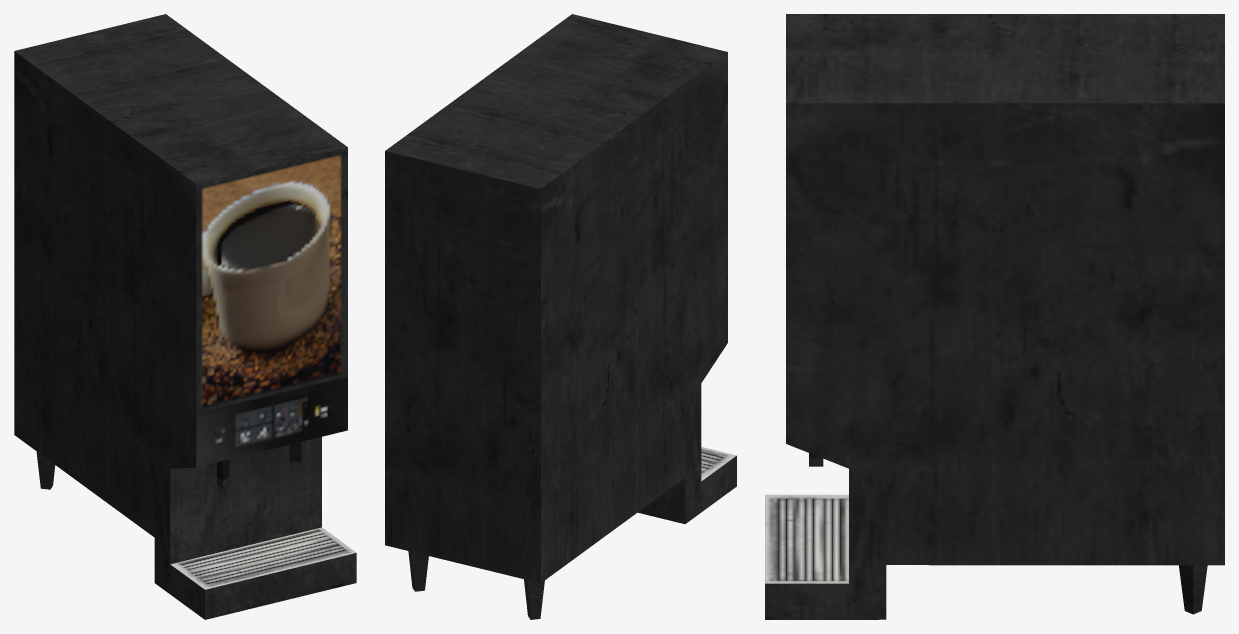
Rendered from gas_coffee_machine.fbx.
The picture shows the model from 3 angles, left to right: view 1: azimuth 30°, elevation 25°; view 2: azimuth 150°, elevation 25°; view 3: azimuth 270°, elevation 25°; orthographic projection. The views are drawn at different scales.
Parts seen in each view (by area): view 1: gas_coffee_machine; view 2: gas_coffee_machine; view 3: gas_coffee_machine.
Part boxes in pixels (bbox=[...]): gas_coffee_machine: bbox=[14, 14, 356, 619]; gas_coffee_machine: bbox=[385, 14, 736, 619]; gas_coffee_machine: bbox=[765, 14, 1224, 619].
Size of the model in its own units: 0.3691 by 1 by 0.8041.
Materials: 1 (1 with a texture image).
